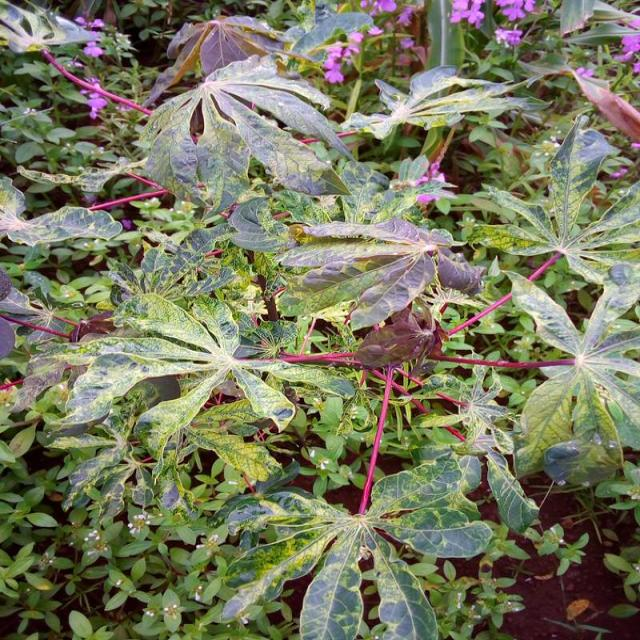cassava leaf: (1, 6, 638, 637), (136, 51, 354, 220), (506, 268, 638, 485)
